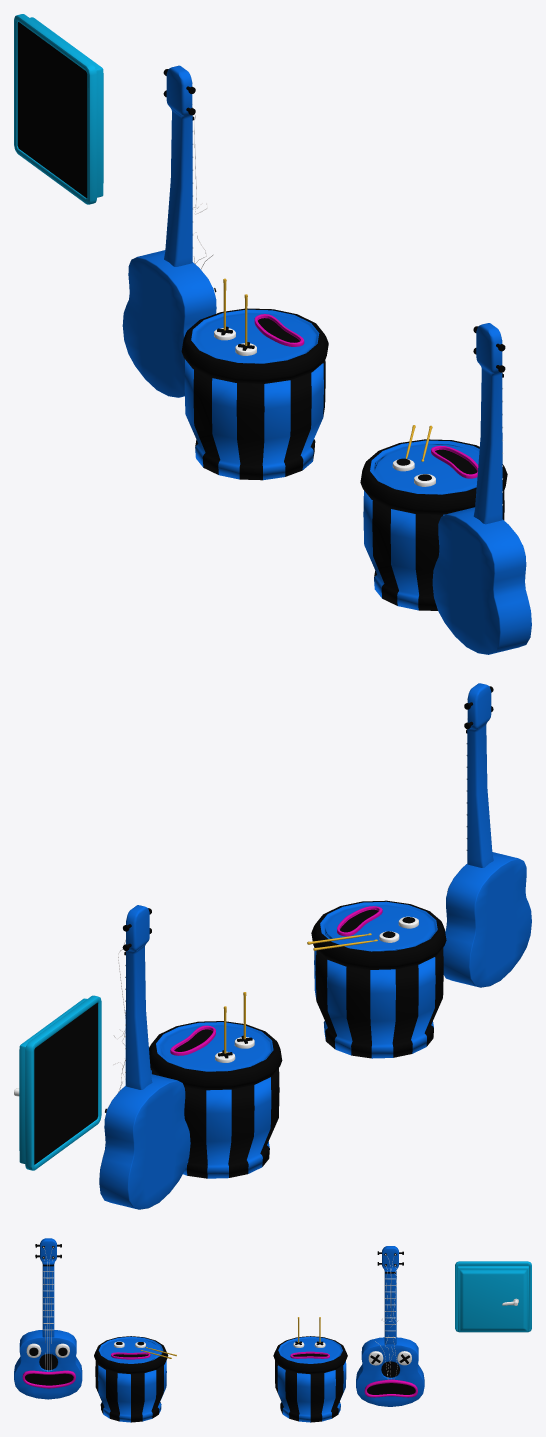
The model's file is DecorationSet3.fbx.
3 views of the same model, one above another, from view 1: azimuth 30°, elevation 25°; view 2: azimuth 150°, elevation 25°; view 3: azimuth 270°, elevation 25° (orthographic). The views are drawn at different scales.
Visible parts, largest first — view 1: Drum2, Guitar, Drum, Guitar.001, DoorHole, DoorPart, Door; view 2: Drum, Drum2, Guitar.001, Guitar, DoorHole, DoorPart, Door; view 3: Drum2, Drum, Guitar, Guitar.001, Door, DoorPart.
Boxes of the visible parts, left/top/right/bottom form: Drum2: left=181, top=278, right=328, bottom=480; Guitar: left=432, top=323, right=531, bottom=654; Drum: left=360, top=439, right=507, bottom=610; Guitar.001: left=122, top=65, right=216, bottom=397; DoorHole: left=17, top=22, right=87, bottom=198; DoorPart: left=14, top=14, right=96, bottom=204; Door: left=30, top=17, right=103, bottom=197; Drum: left=311, top=900, right=446, bottom=1058; Drum2: left=149, top=992, right=282, bottom=1178; Guitar.001: left=99, top=905, right=190, bottom=1209; Guitar: left=443, top=683, right=531, bottom=987; DoorHole: left=34, top=1002, right=97, bottom=1164; DoorPart: left=25, top=995, right=101, bottom=1170; Door: left=19, top=998, right=86, bottom=1163; Drum2: left=273, top=1317, right=347, bottom=1422; Drum: left=94, top=1336, right=168, bottom=1422; Guitar: left=14, top=1238, right=82, bottom=1399; Guitar.001: left=356, top=1246, right=424, bottom=1406; Door: left=457, top=1265, right=528, bottom=1331; DoorPart: left=455, top=1261, right=531, bottom=1332.
Size of the model in its own units: 53.63 by 130 by 373.
